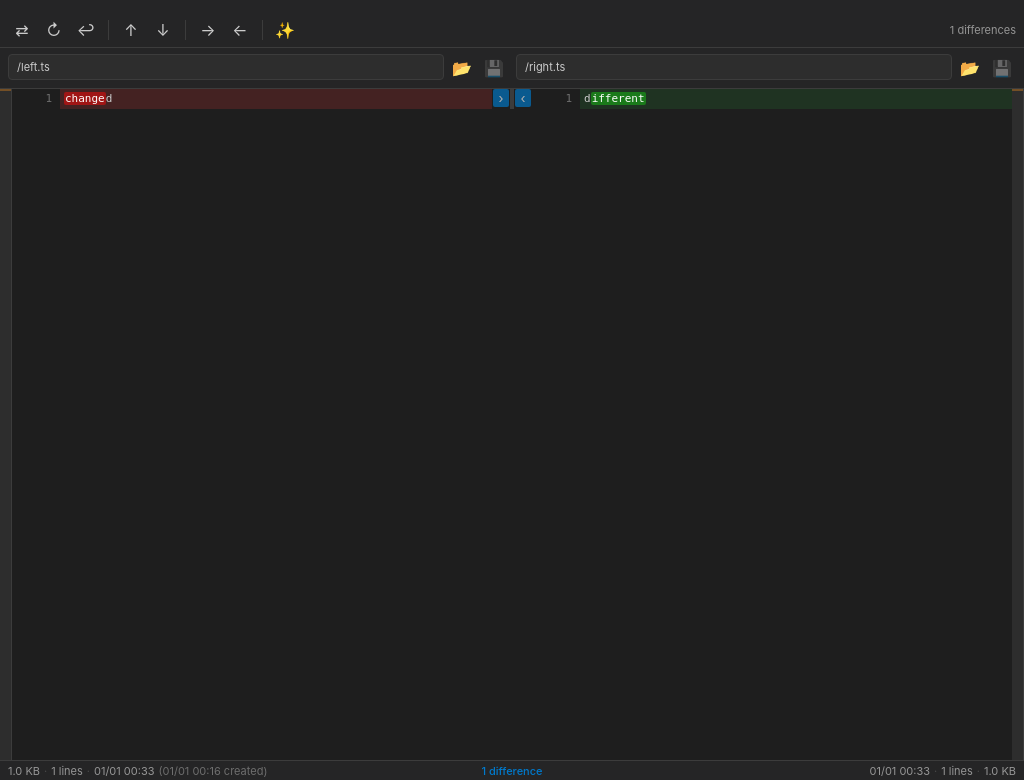
Scenario: FileDiffView — row selection › selected row count label appears in toolbar when rows are selected
expect the element with class "fd-diff-modified" showing "1 changed" is shown: met, box [12,89,492,109]
Click the text with class "fd-line-no" next to "change".
click(49, 98)  # box [45,92,52,105]
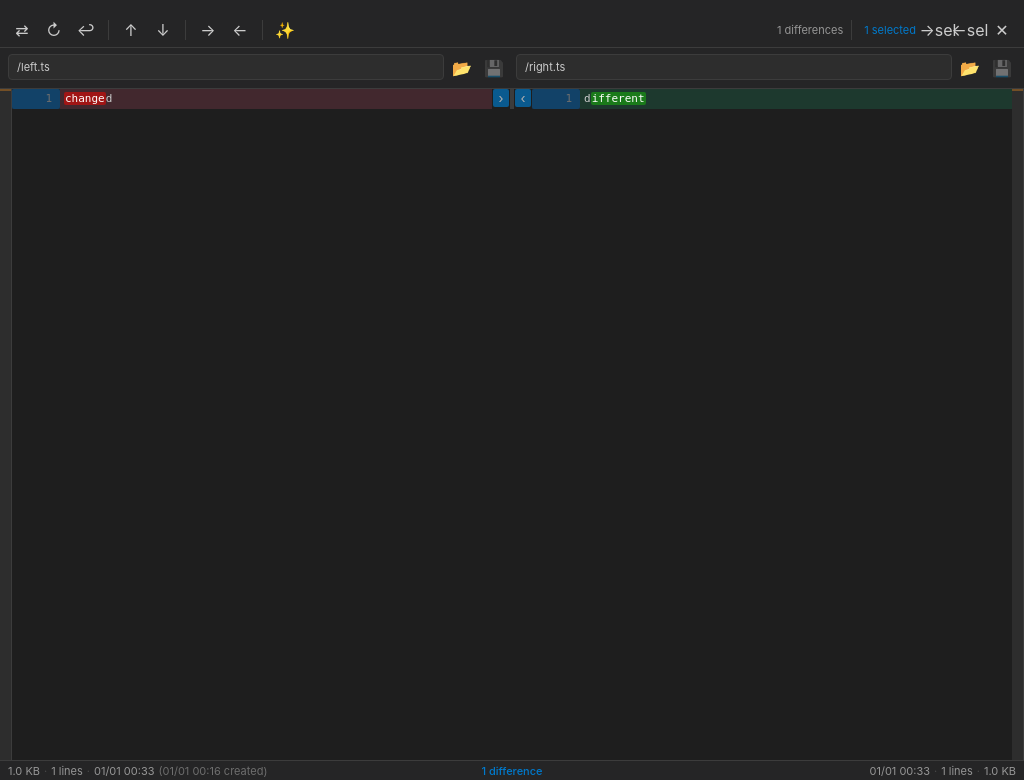
expect the text with class "fd-sel-count" reads "1 selected": met, box [860,22,920,36]
